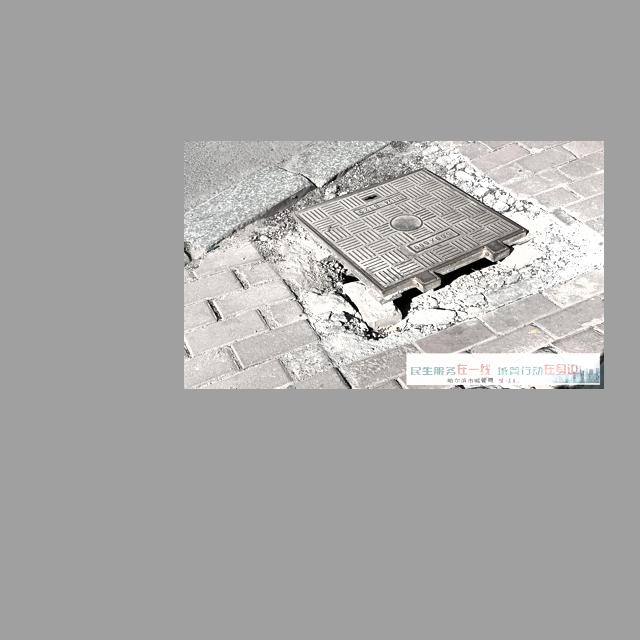circle: (249, 166, 581, 339)
